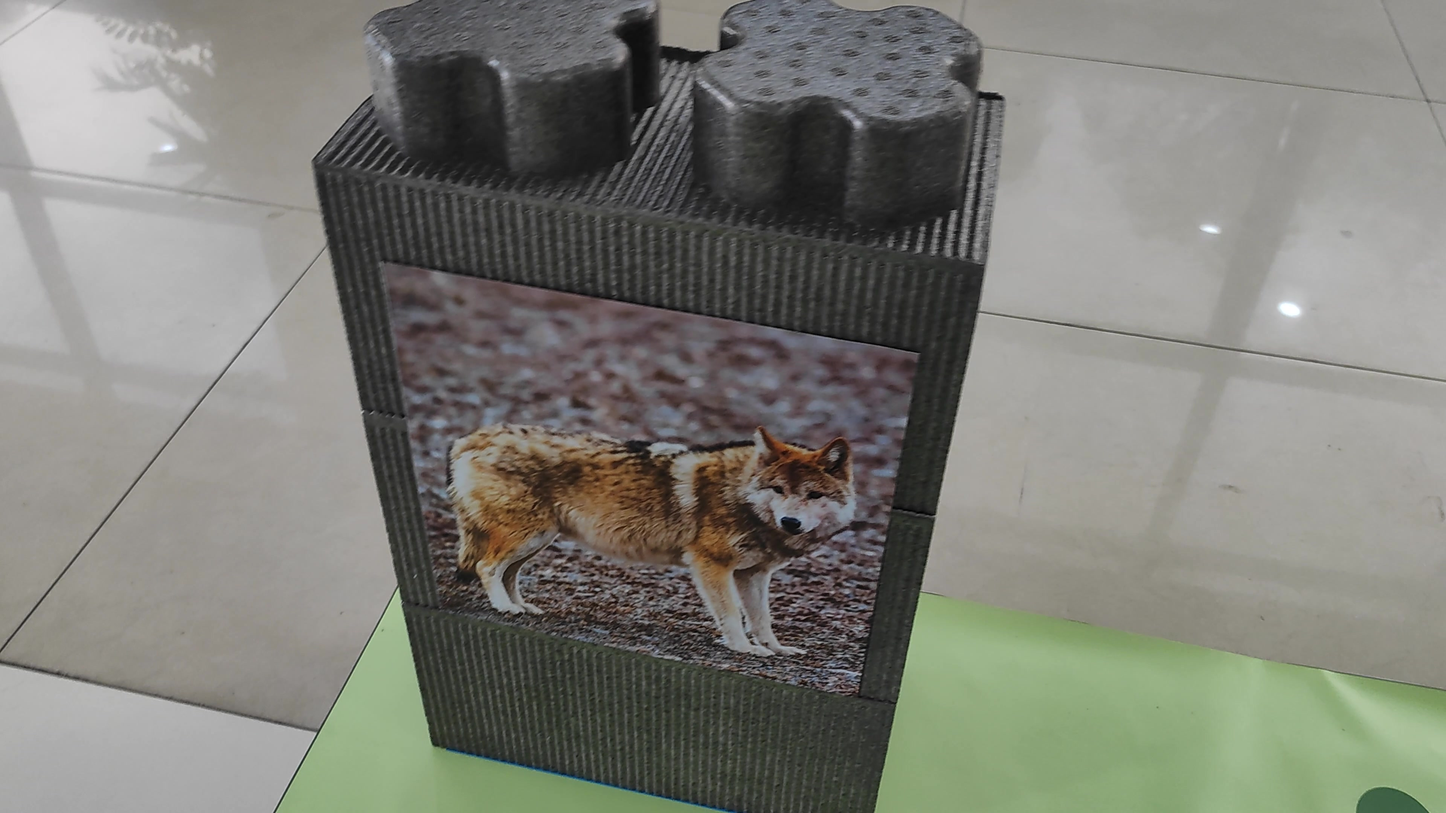wolf: (432, 374, 868, 668)
